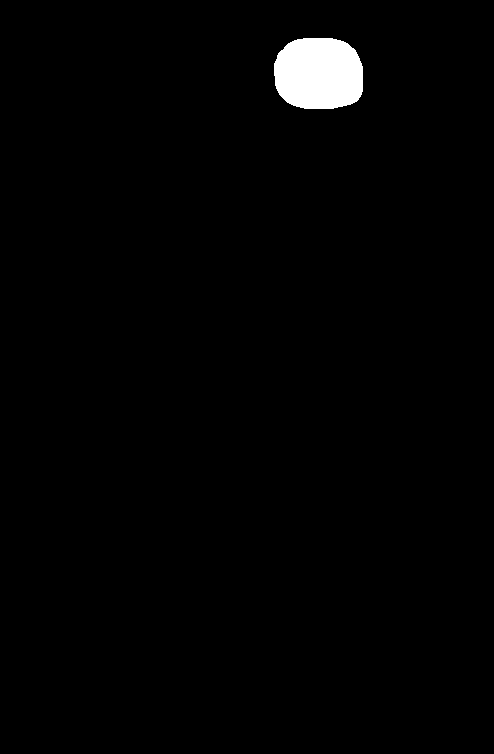veins_detect: (264, 35, 370, 117)
veins_seg: (274, 39, 362, 109)
